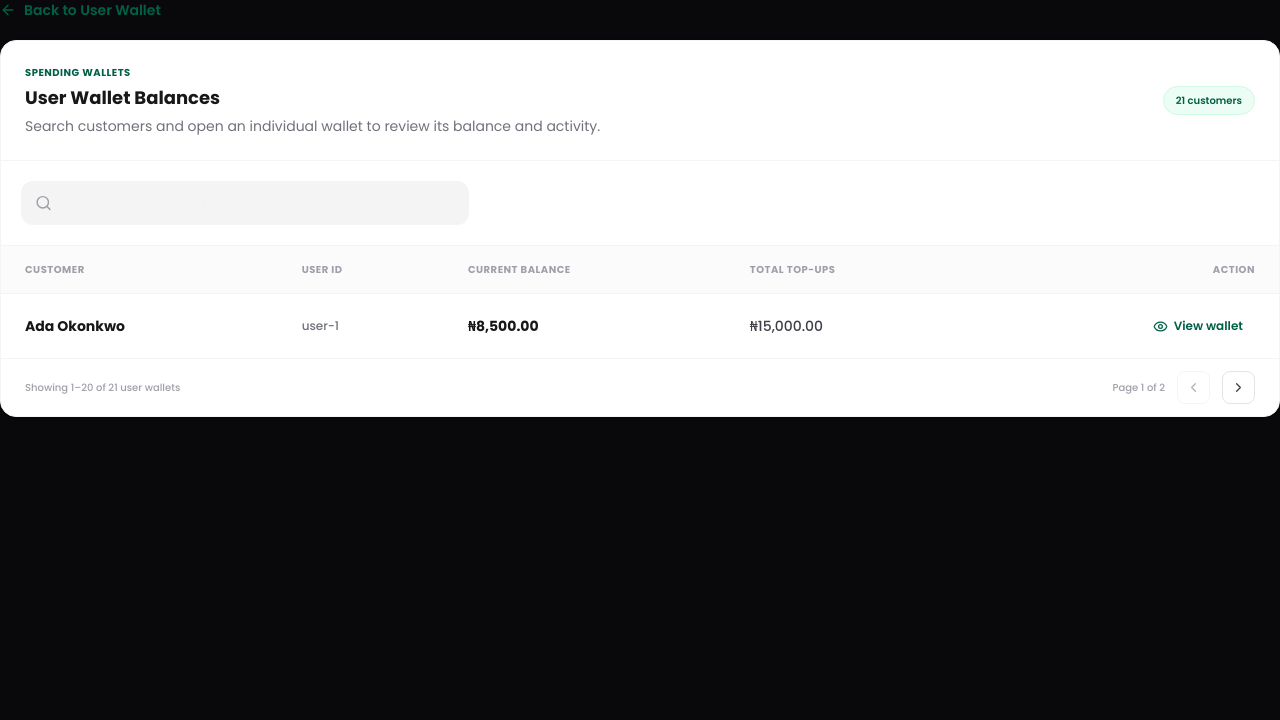
Test: Super Admin user wallet screens › loads the paginated balance page, searches server-side, then opens wallet metrics and history
The width and height of the screenshot is (1280, 720).
Expected: the text "₦8,500.00" is shown, [444,294,726,358]
Step 1. Type " ada " into the field with placeholder "Search customer or user ID" → (245, 203), box [21,181,469,225]
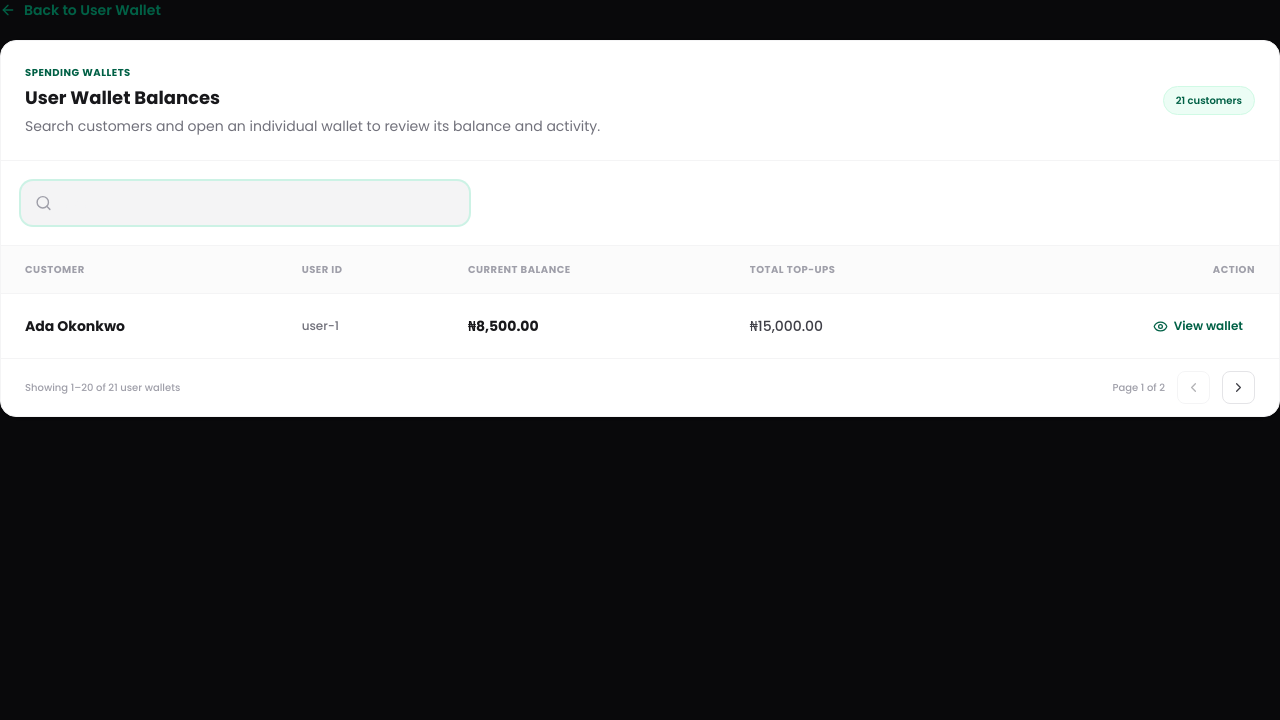
Step 2. Click the button named "Next page" → click(1238, 388), box [1222,371,1255,404]
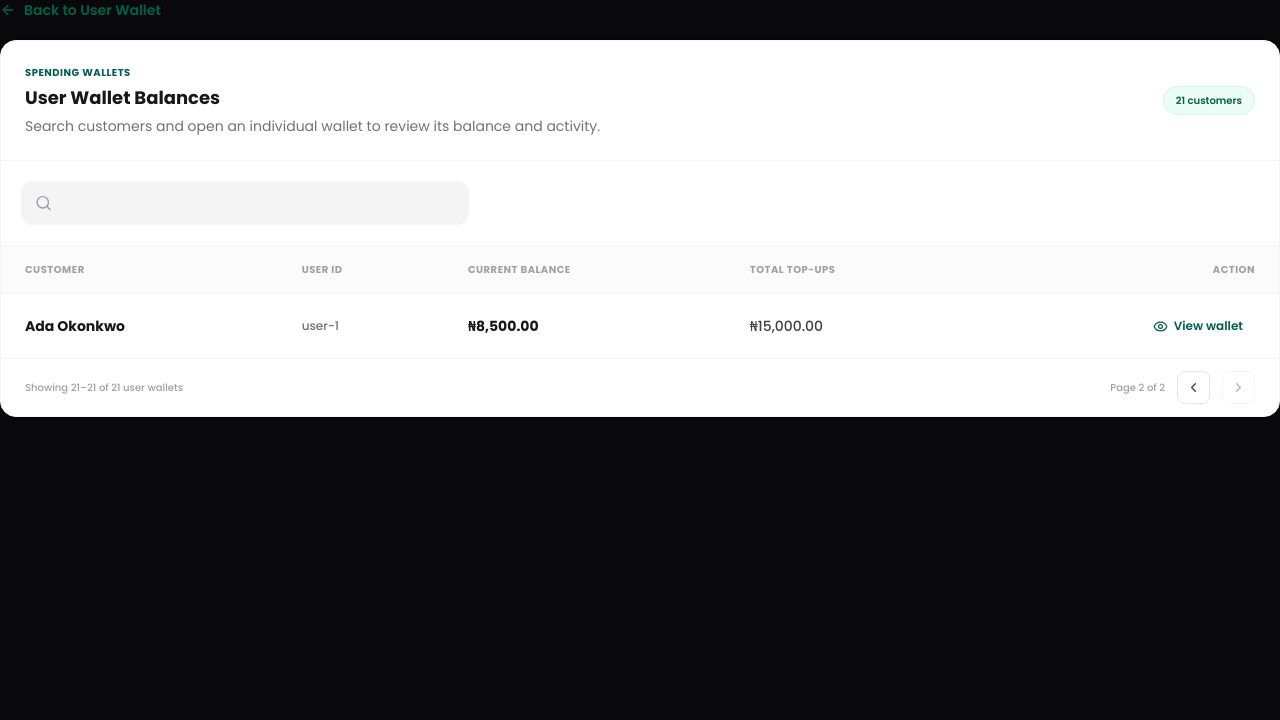
Step 3. Click the button named "Previous page" → click(1194, 388), box [1177,371,1210,404]
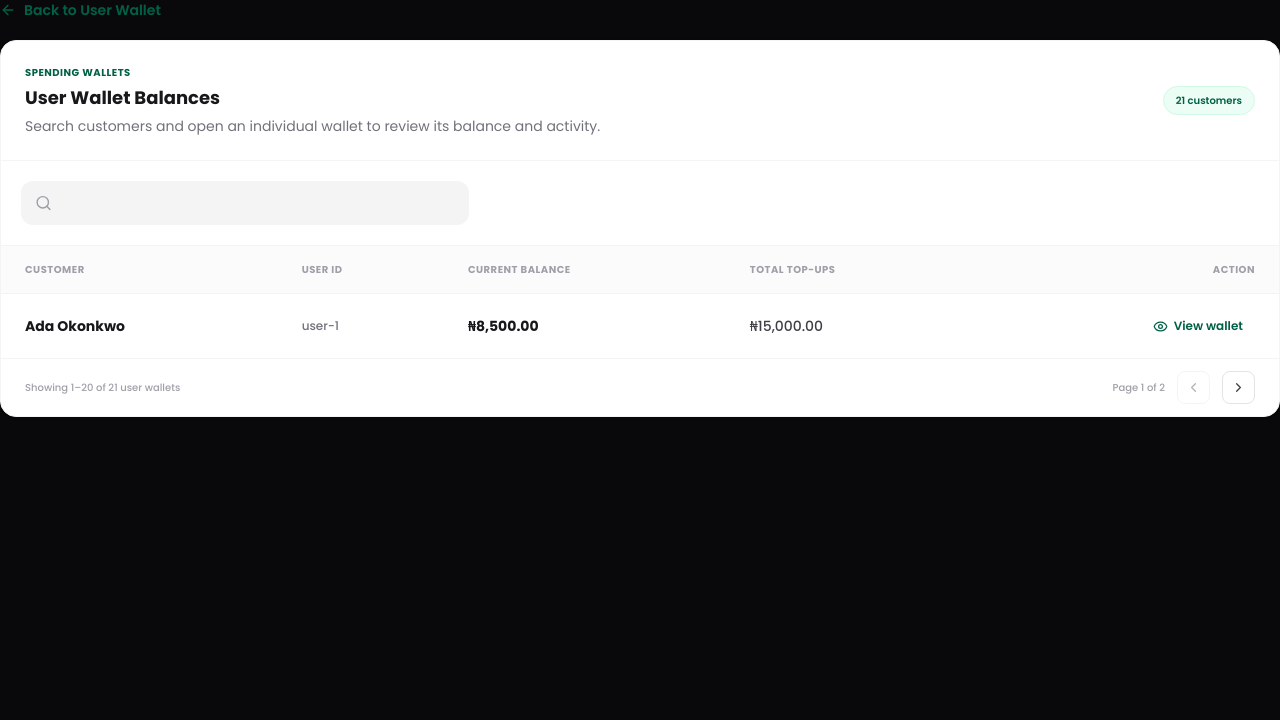
Step 4. Click the button with aria-label "View Ada Okonkwo's wallet" → click(1198, 326), box [1141,310,1255,342]
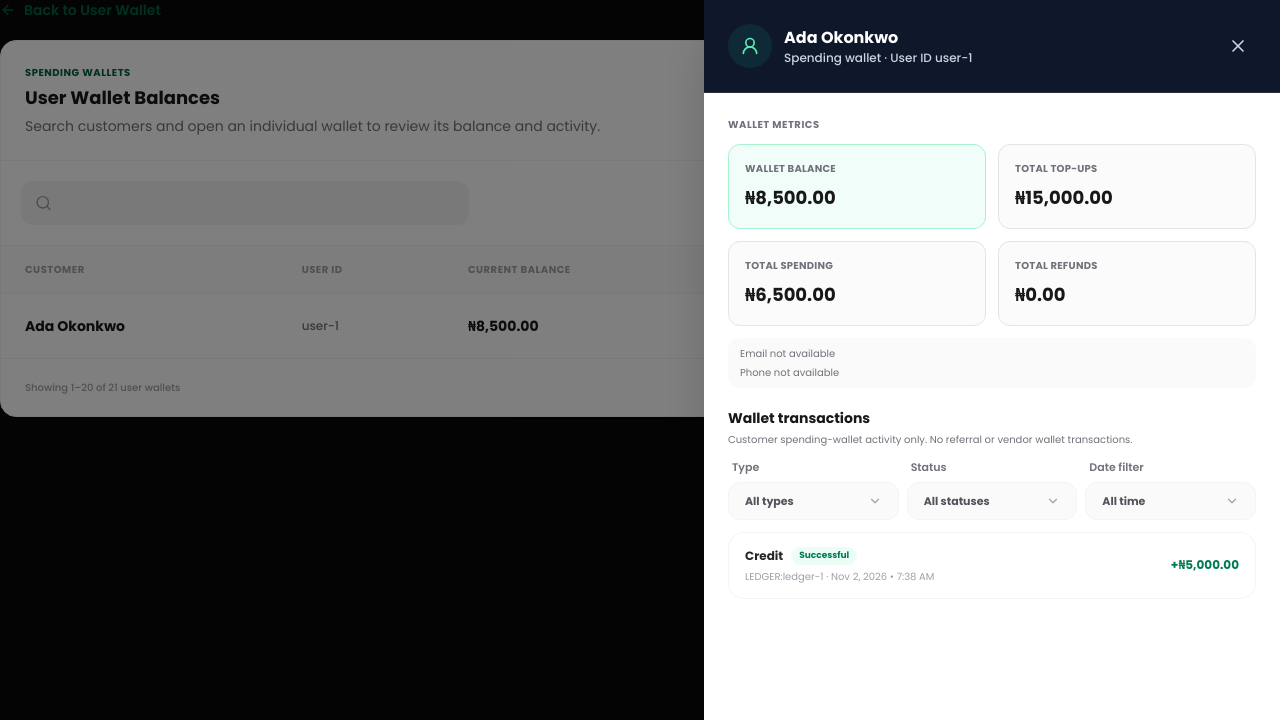
Expected: the dialog "Ada Okonkwo" is shown, [704,0,1279,719]
Expected: the heading "Wallet metrics" is shown, [728,117,820,132]
Expected: the text "Wallet balance" is shown, [745,161,836,176]
